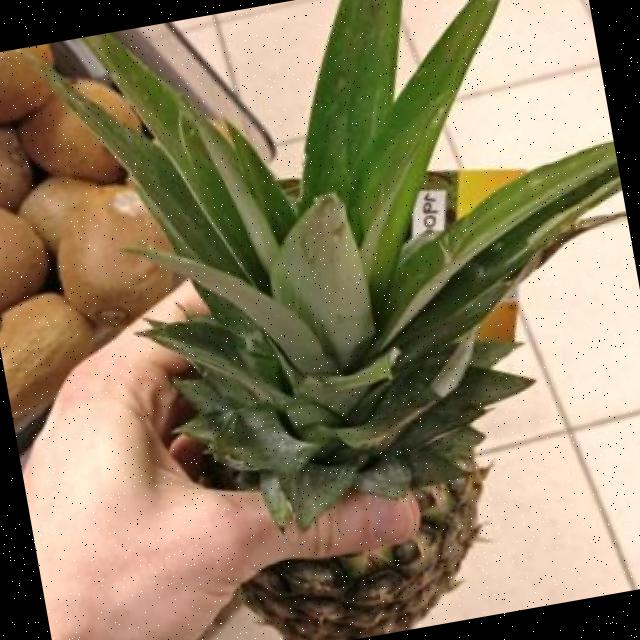pineapple: (51, 0, 622, 640)
